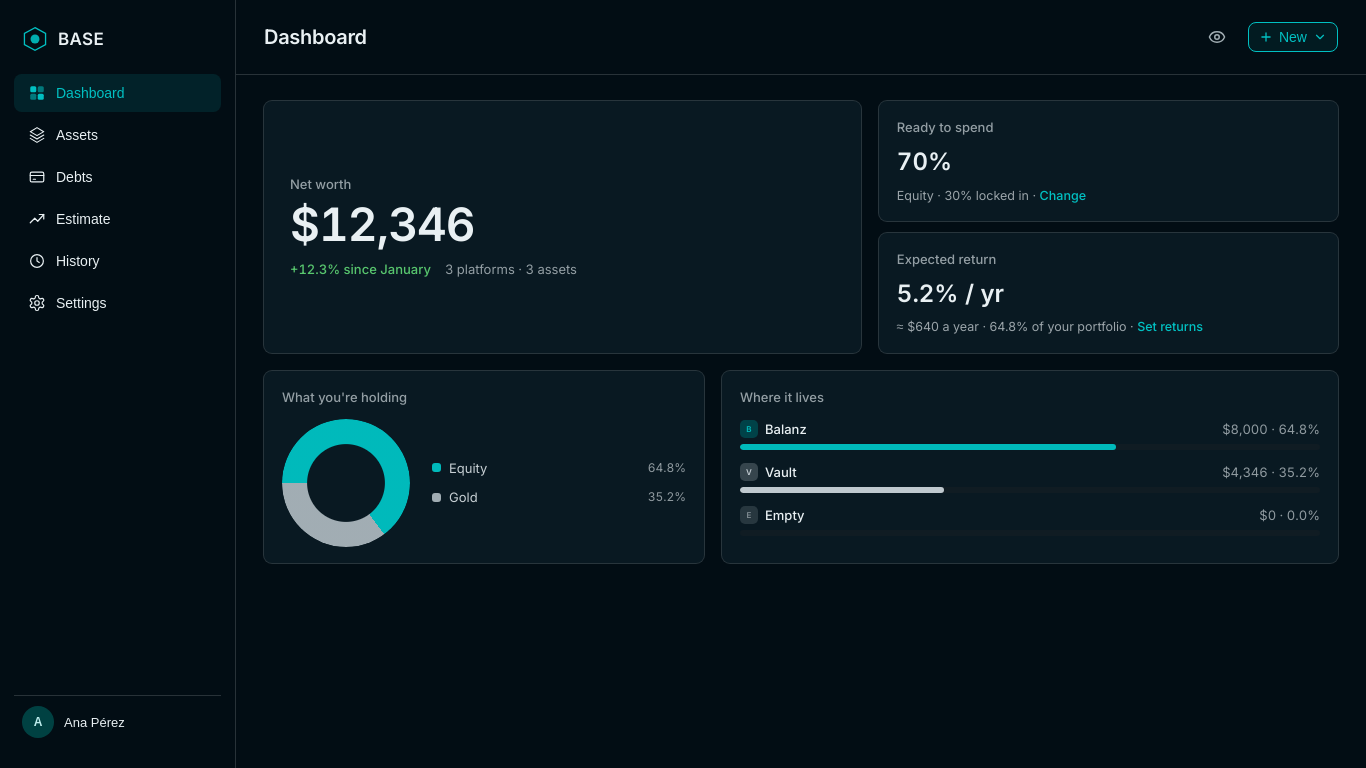
Test: a period's figures › marks checkpoints added by hand, on the chart and in the table, and reads what they were made of
Expected: the text "$12,346" is shown, [290,196,475,252]
Click the button "History" at (118, 261), box [14,242,221,280]
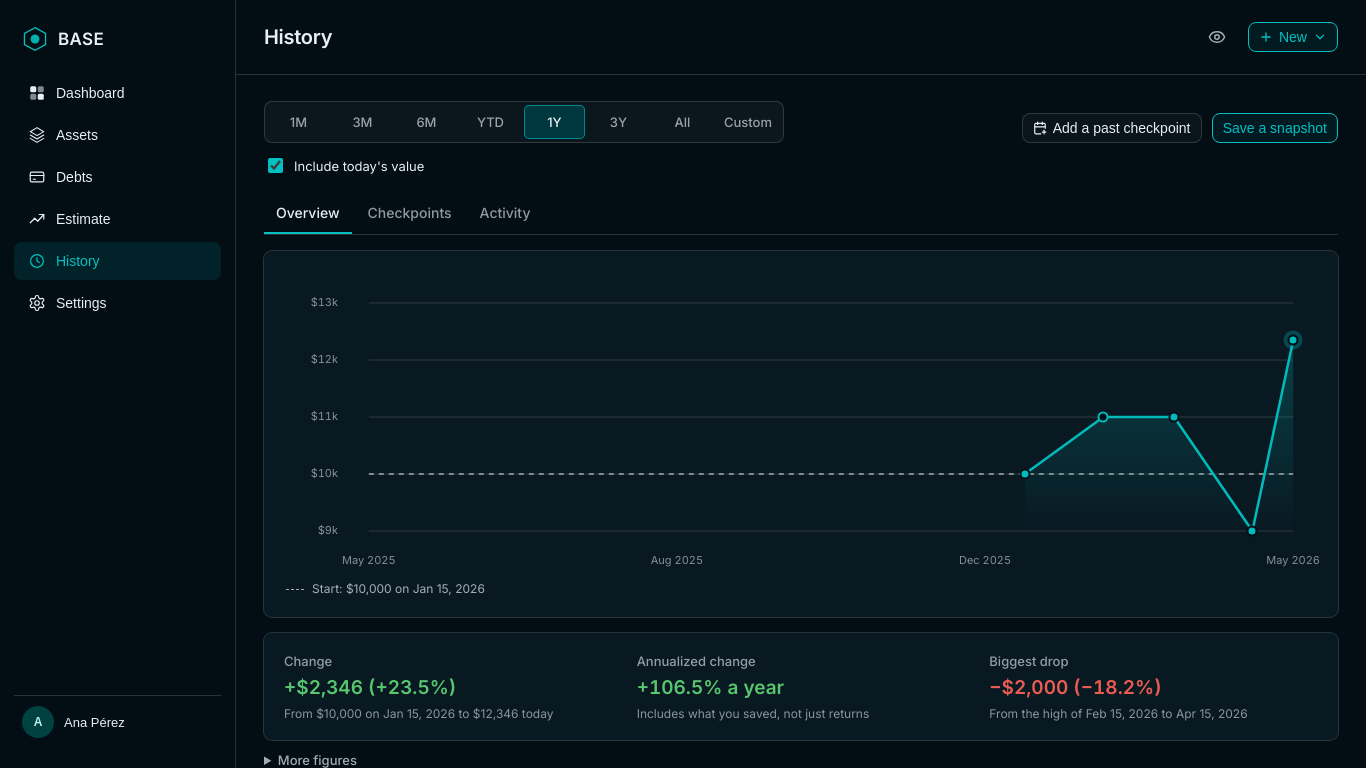
Focus the element named "Use the arrow keys to read each point." at (831, 417), box [346,287,1316,547]
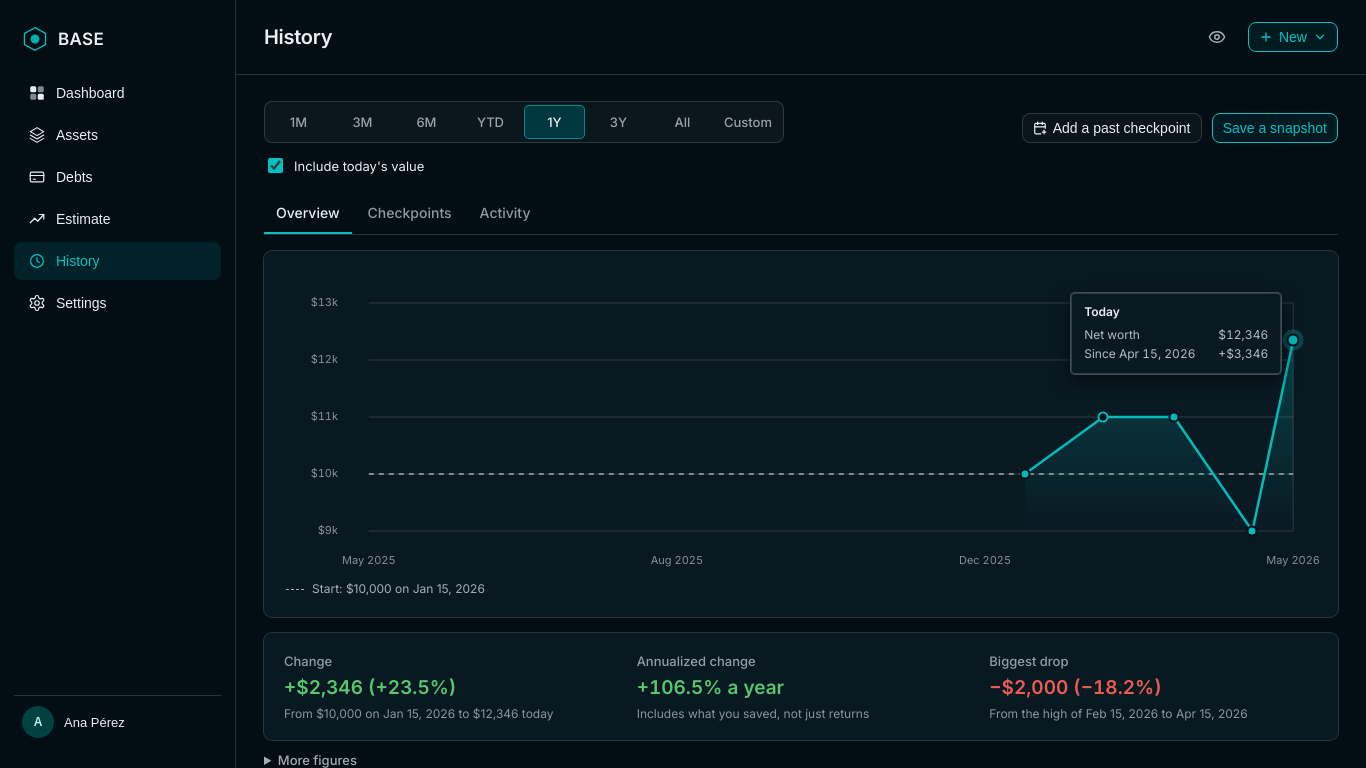
Press Home in the element named "Use the arrow keys to read each point.", box [346,287,1316,547]
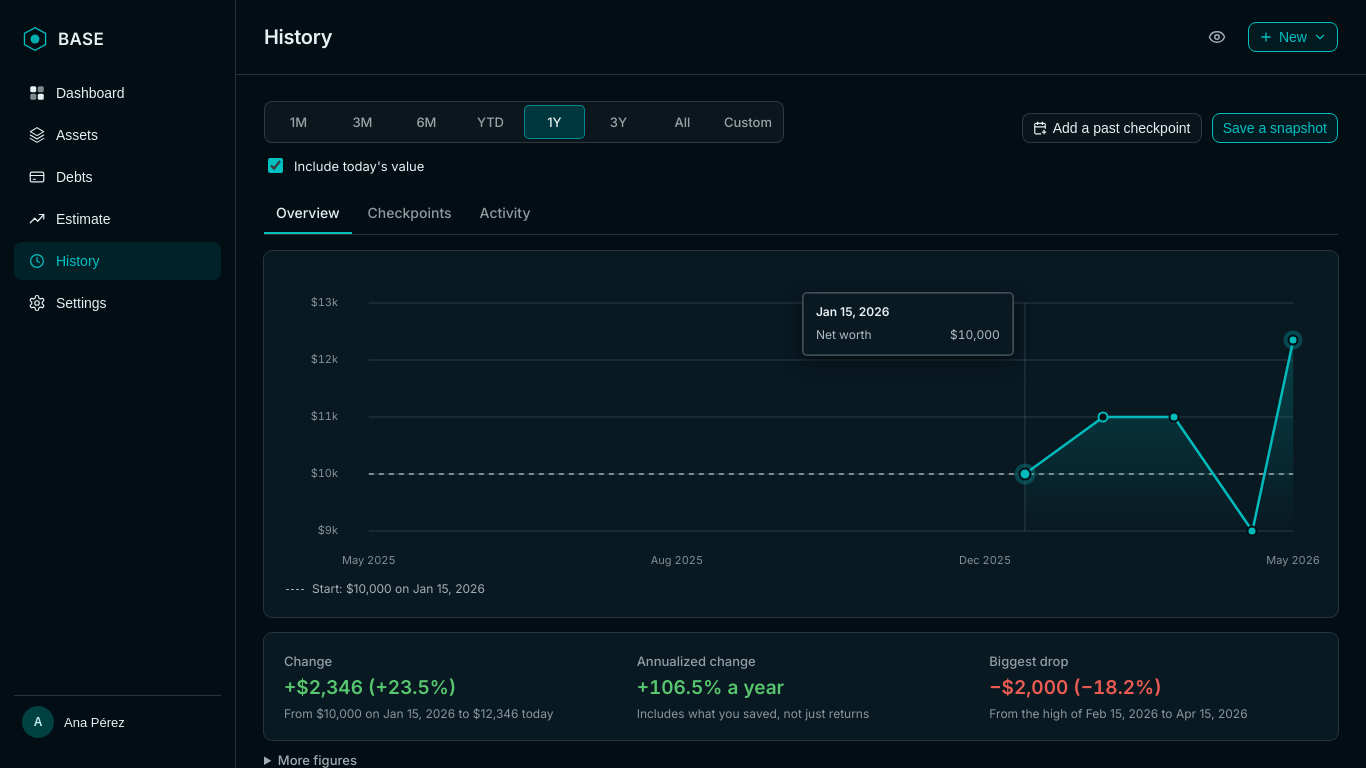
Press ArrowRight in the element named "Use the arrow keys to read each point.", box [346,287,1316,547]
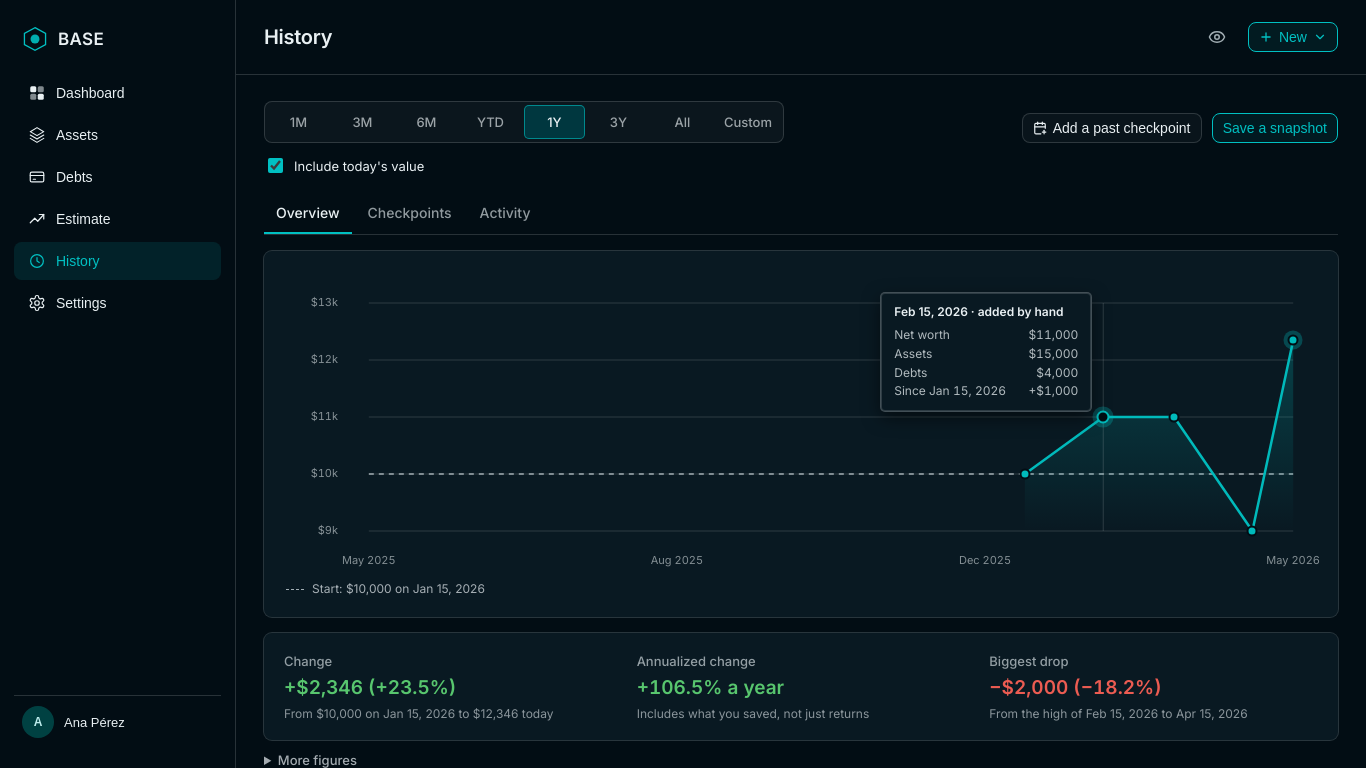
Expected: the number of elements with class "chart-dot-manual" is 1, [1097,410,1110,423]
Expected: the number of elements with class "chart-dot-today" is 1, [1288,335,1299,346]
Click the tab "Checkpoints" at (410, 213), box [356,192,464,234]
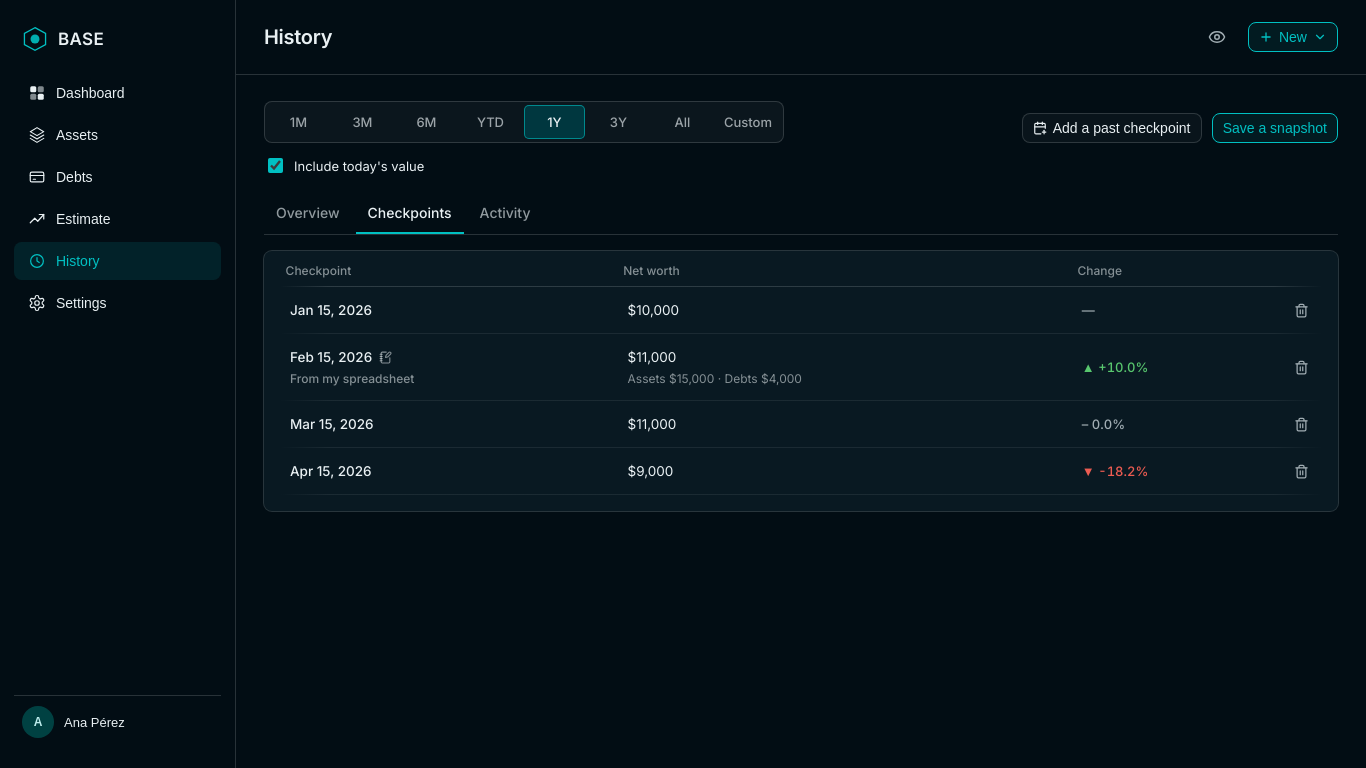
Expected: the text "From my spreadsheet" is shown, [290,370,414,386]
Expected: the text "Assets $15,000 · Debts $4,000" is shown, [628,370,802,386]
Expected: the number of pictures named "Added by hand" is 1, [379,351,392,364]
